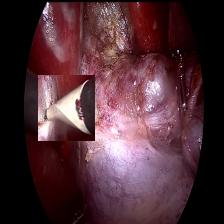Hook: (37, 74, 94, 140)
